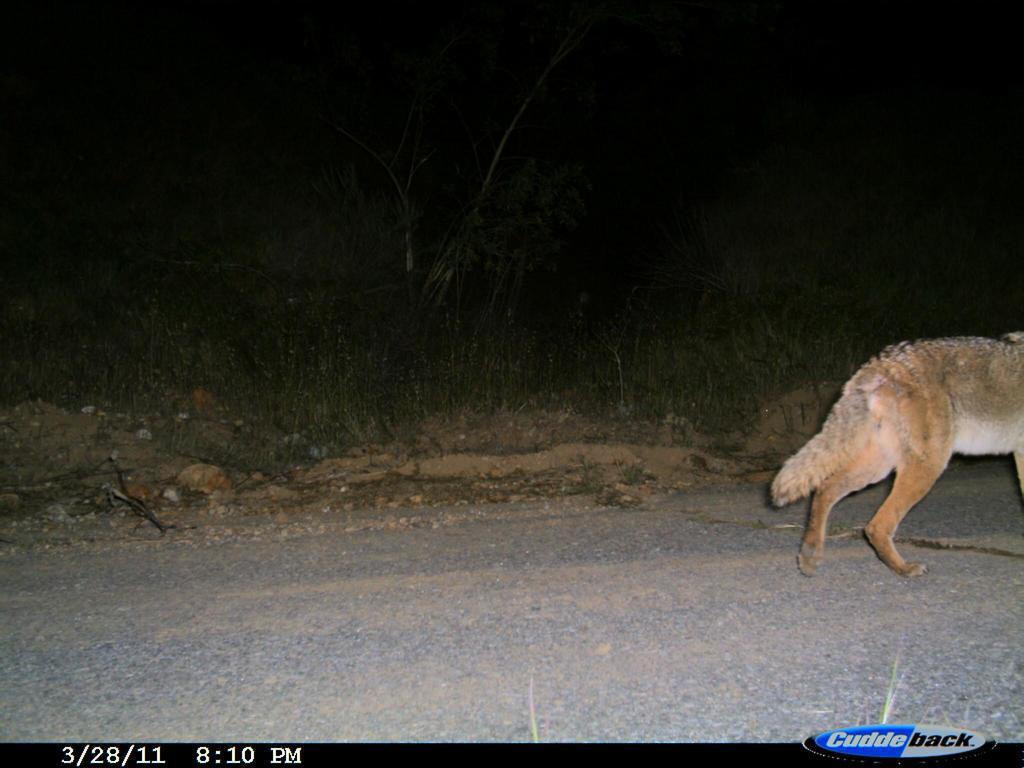coyote: (766, 315, 1022, 593)
